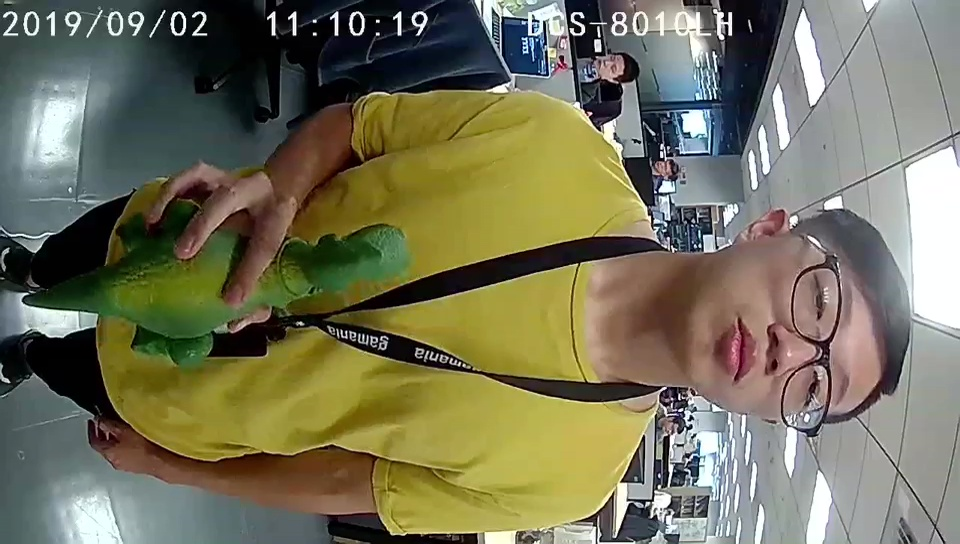rex: (124, 222, 406, 365)
